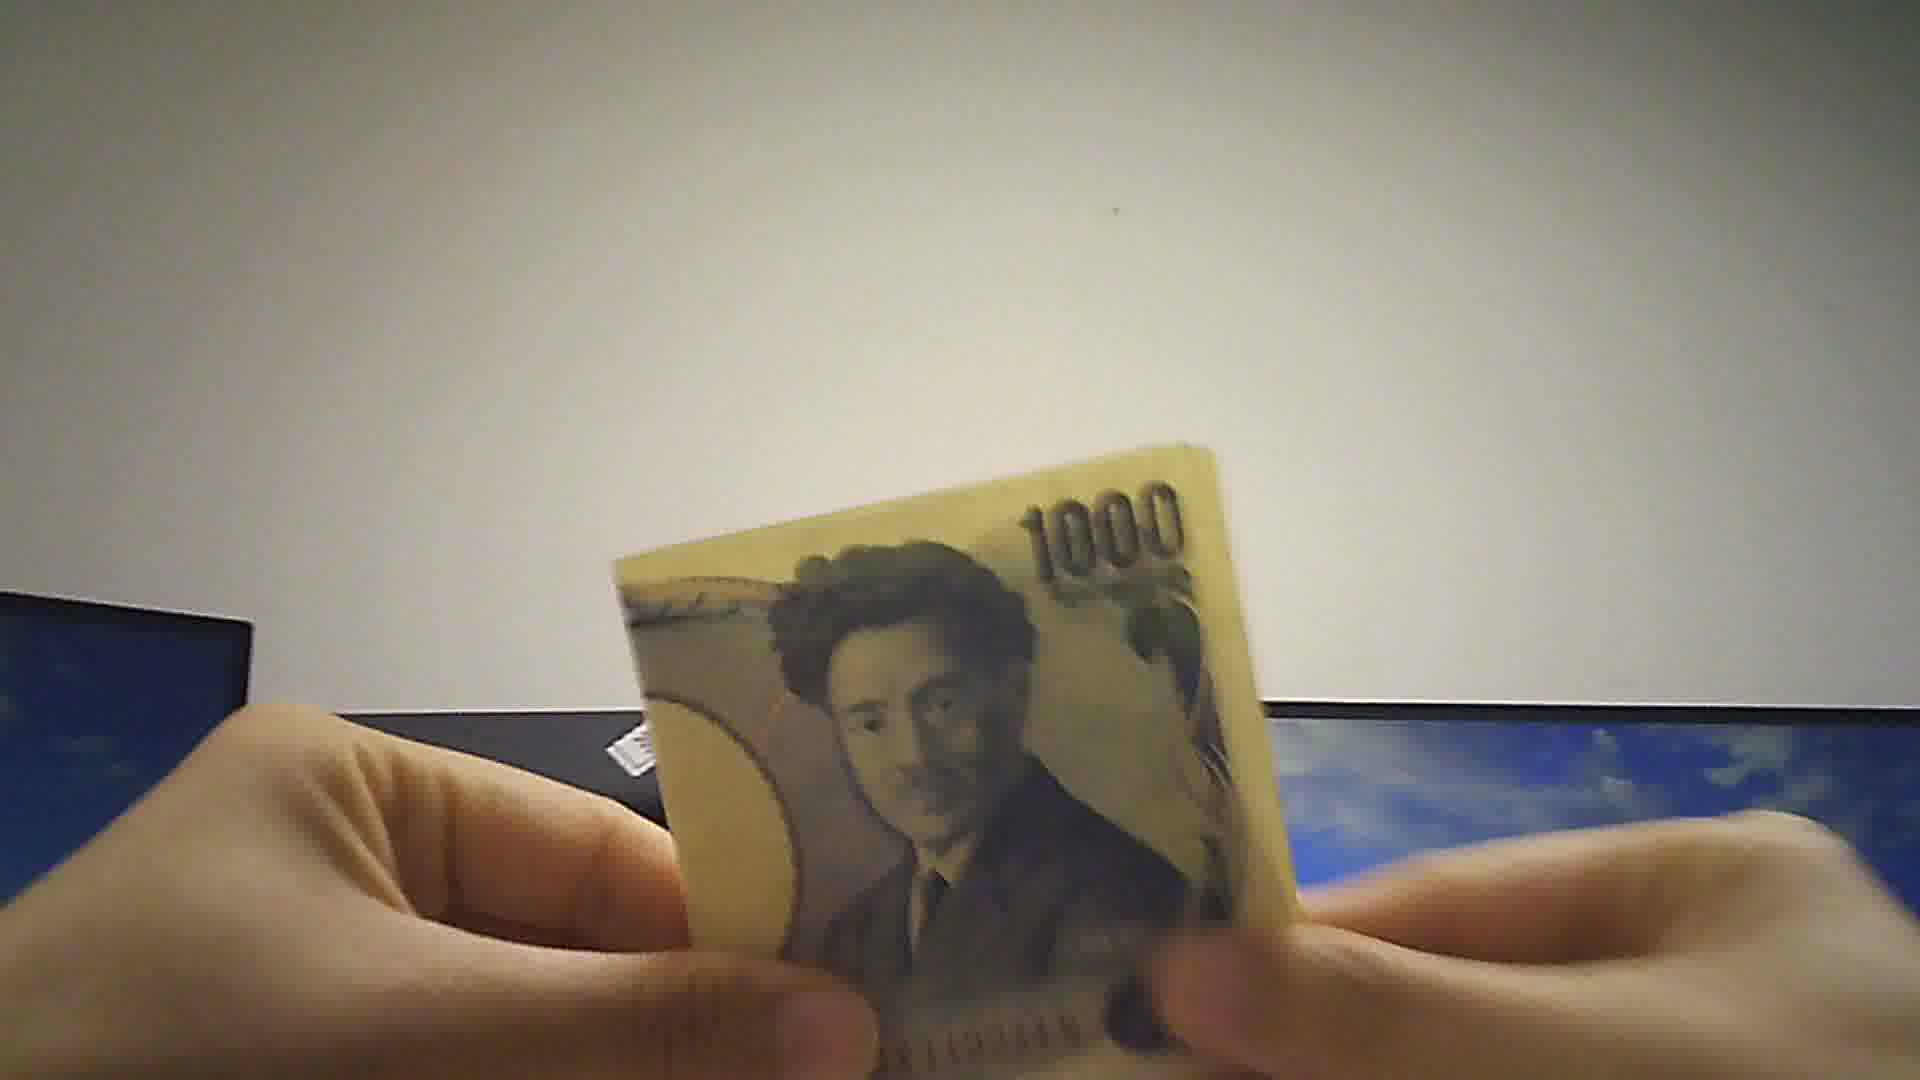1,000 Yen: (624, 450, 1303, 1079)
